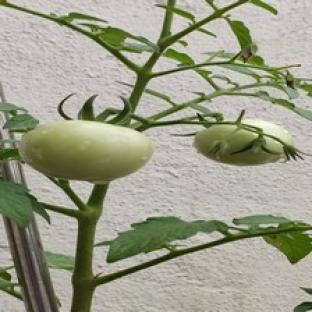Tomato: (20, 120, 153, 183), (194, 120, 293, 165)
